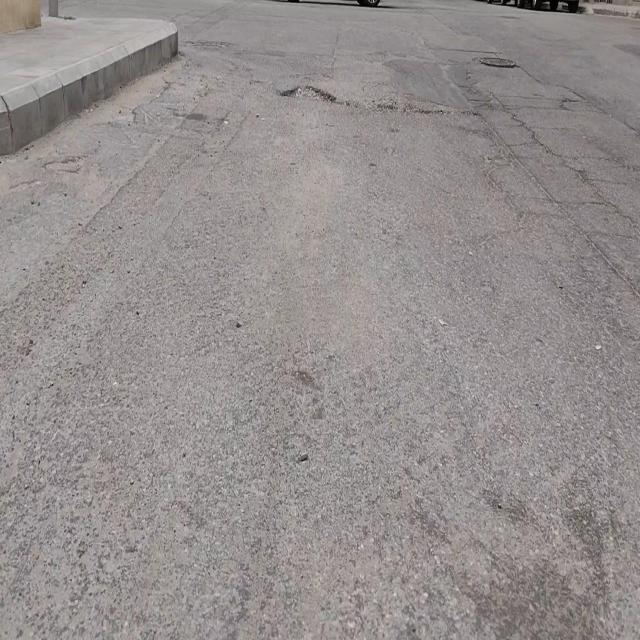Pothole: (278, 80, 337, 104)
